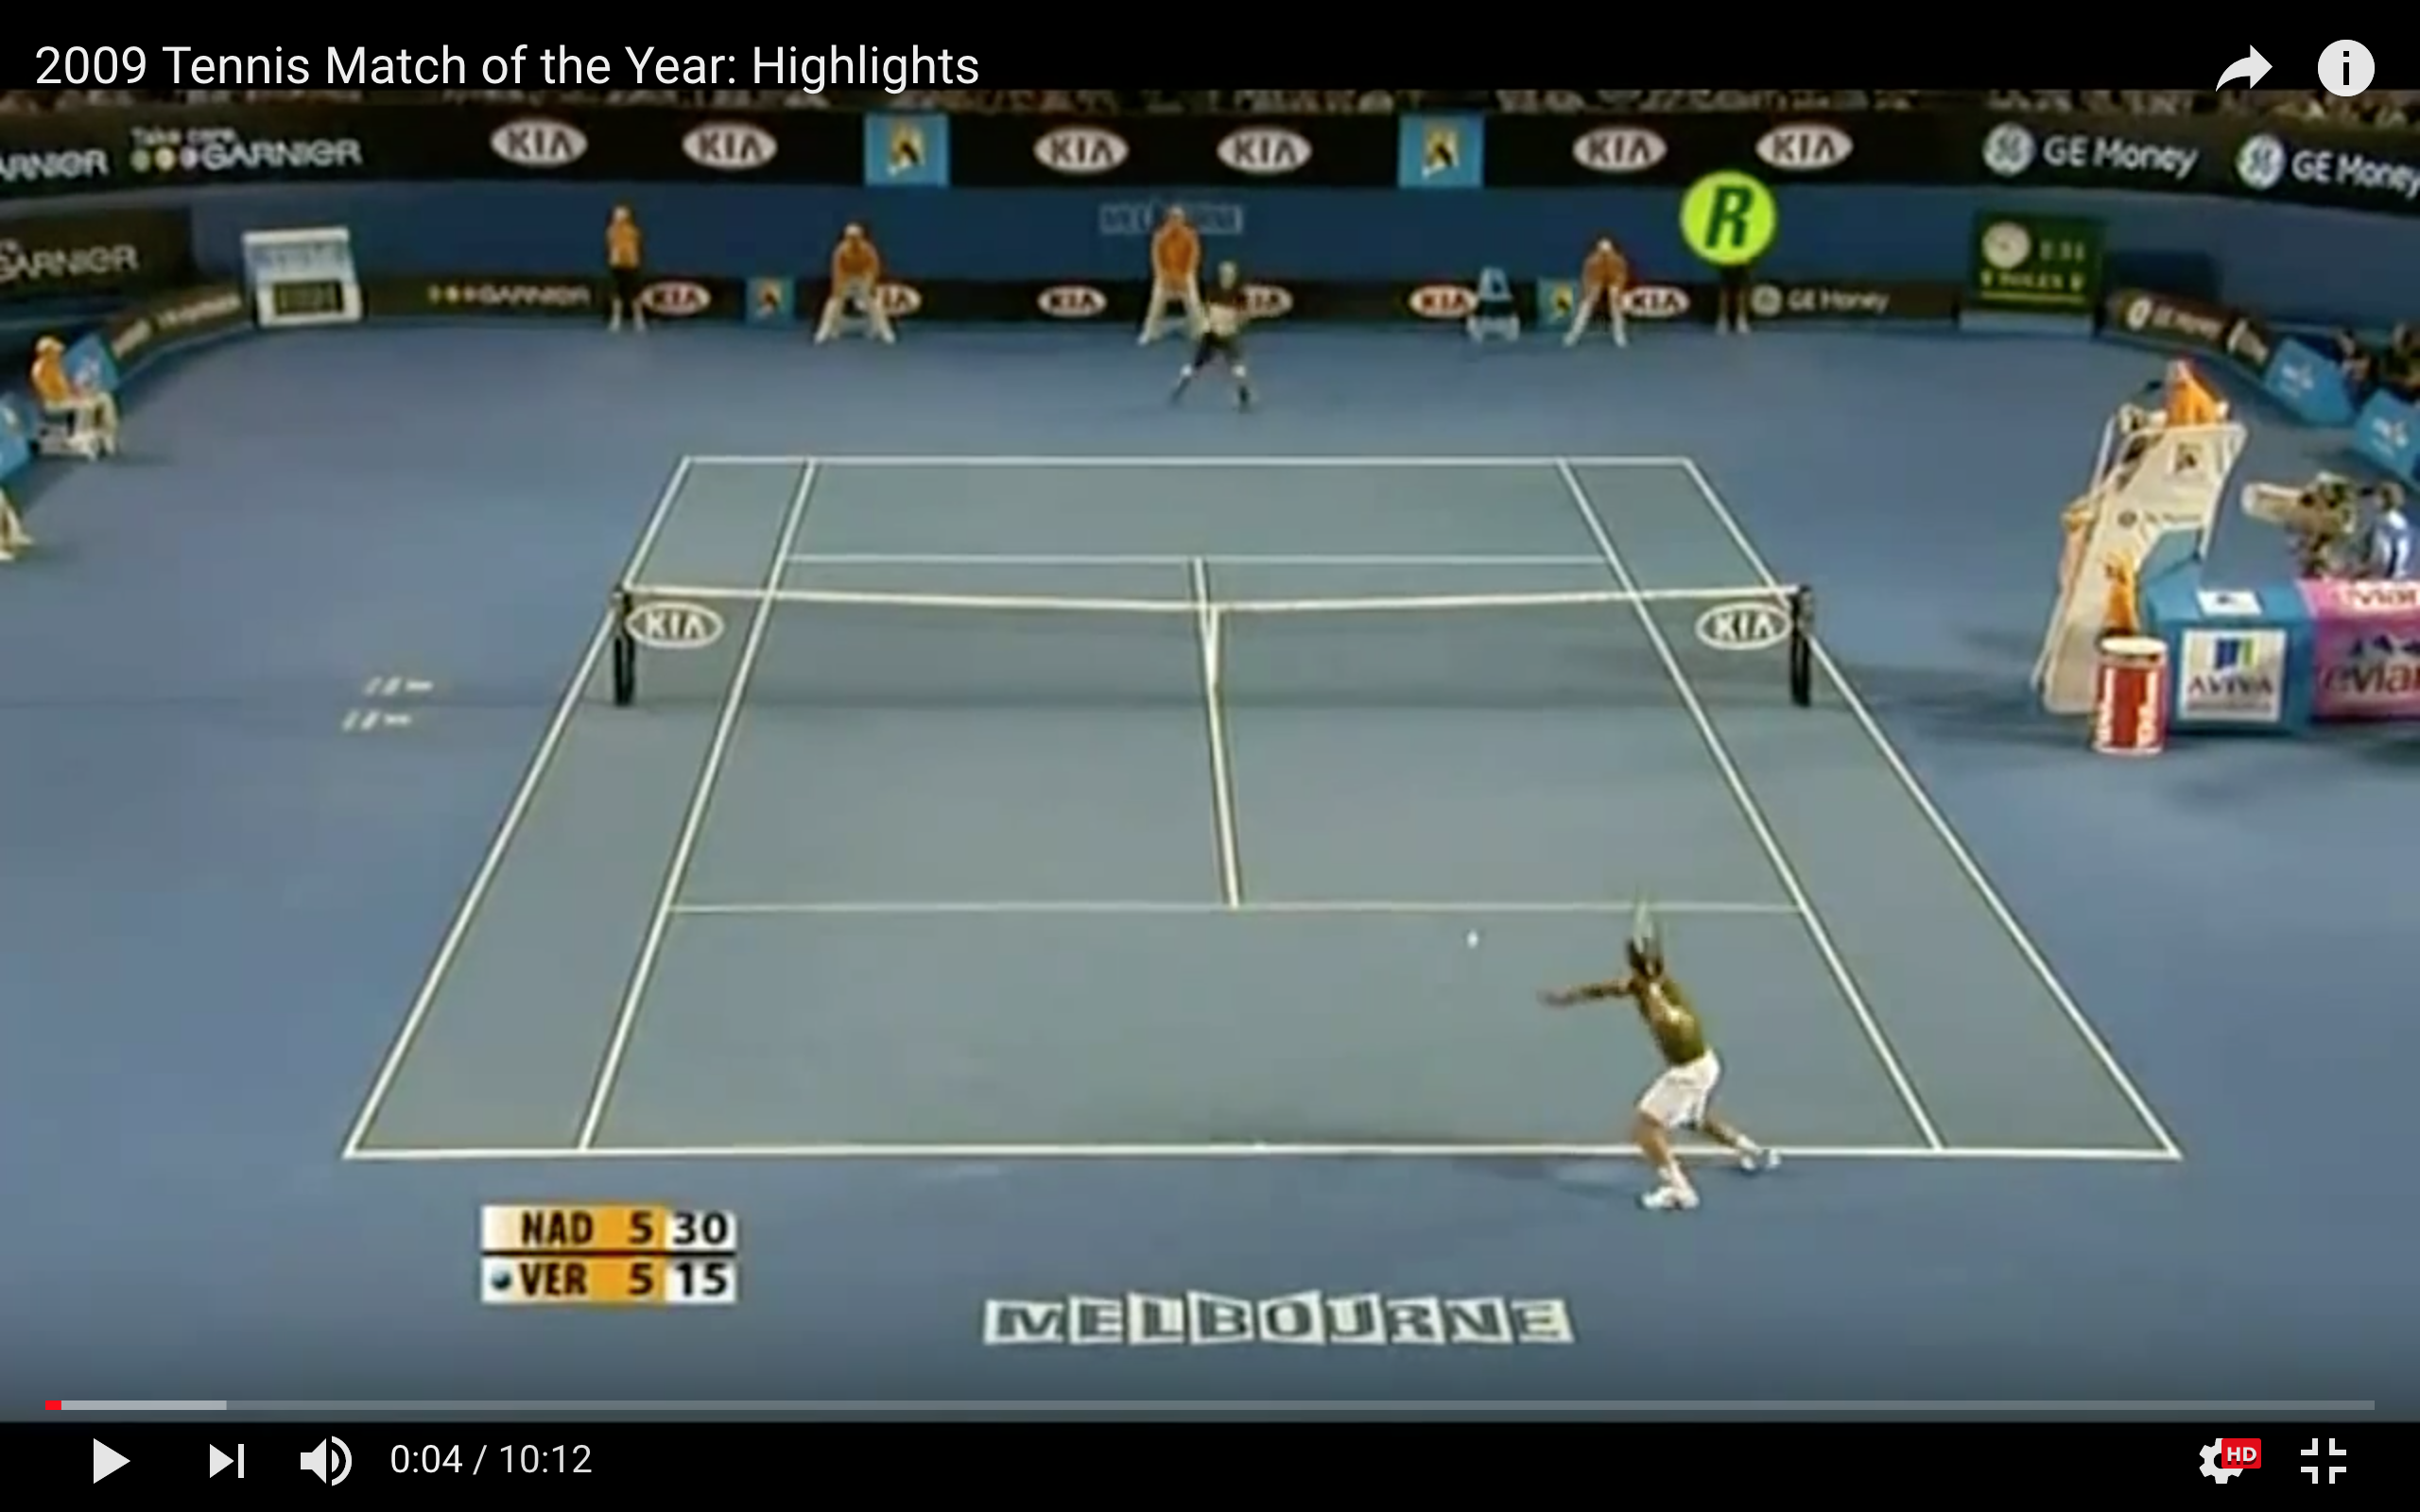tennis ball: (1461, 929, 1488, 958)
tennis player: (1543, 902, 1788, 1217), (1168, 257, 1271, 424)
